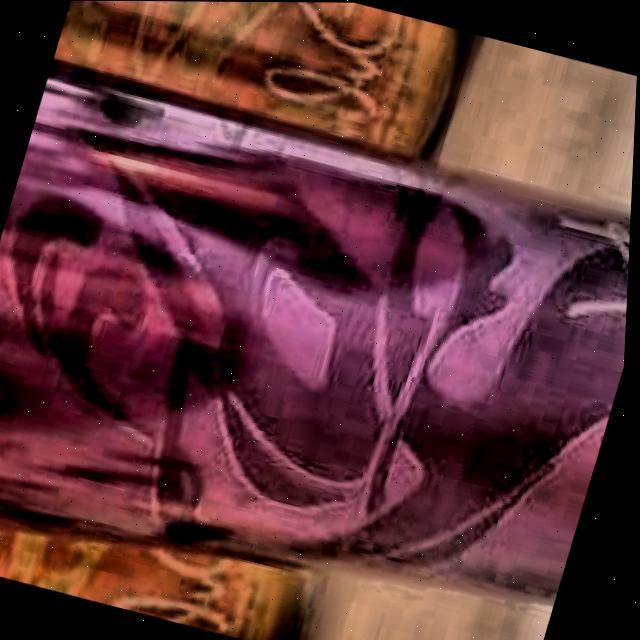metal: (0, 59, 633, 609)
